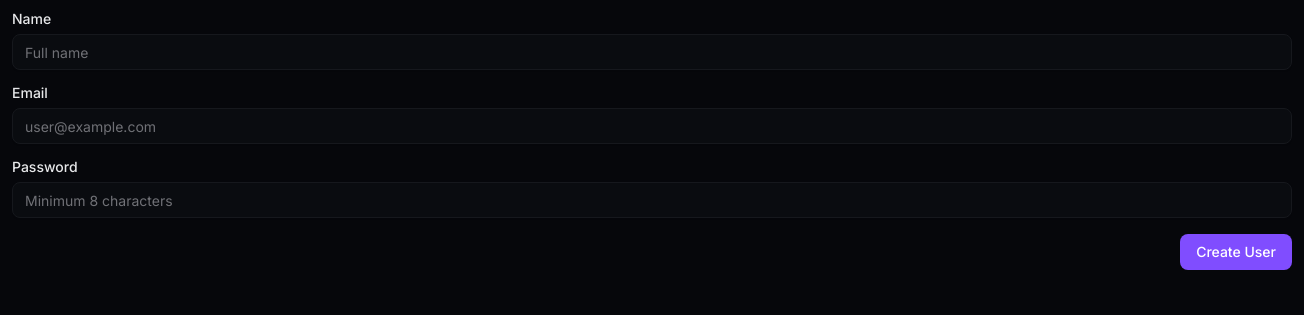
Test case: UserForm — create mode › should show validation error for missing email
This screenshot has width=1304, height=315.
Type "John Doe" into the field labelled "Name" at (652, 52), box x1=12 y1=34 x2=1292 y2=70
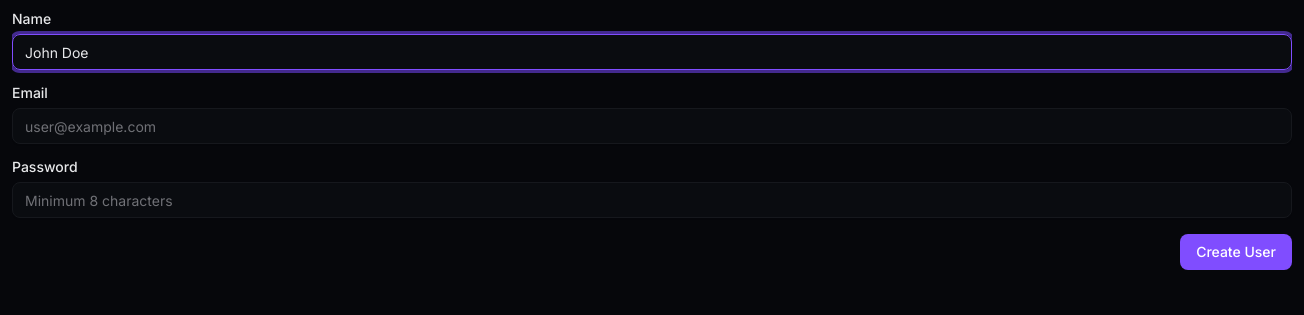
Type "password123" into the password field labelled "Password" at (652, 200), box x1=12 y1=182 x2=1292 y2=218
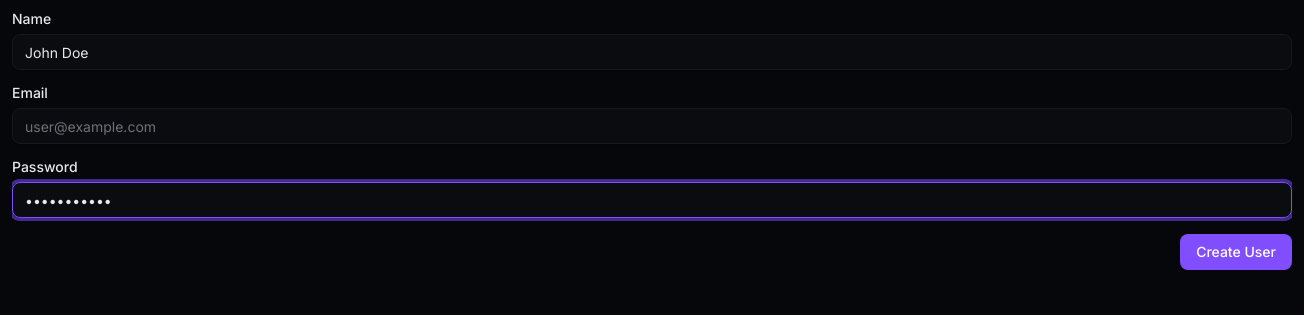
Click the button "Create User" at (1236, 252), box x1=1180 y1=234 x2=1292 y2=270
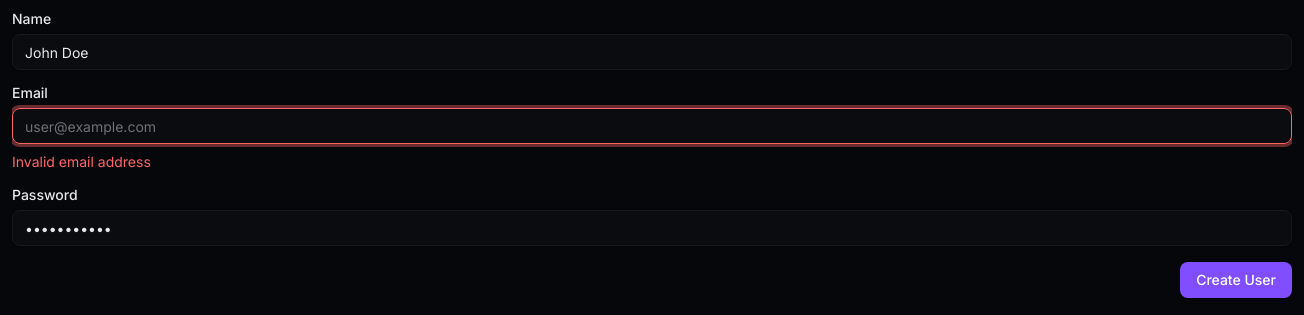
Check: the text "Invalid email address" is shown, box x1=12 y1=153 x2=151 y2=170
